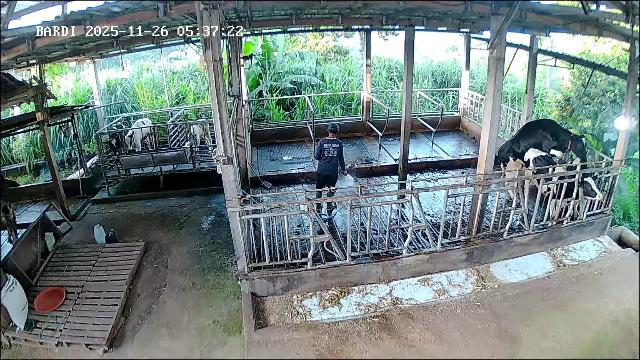mounting: (496, 119, 586, 199)
